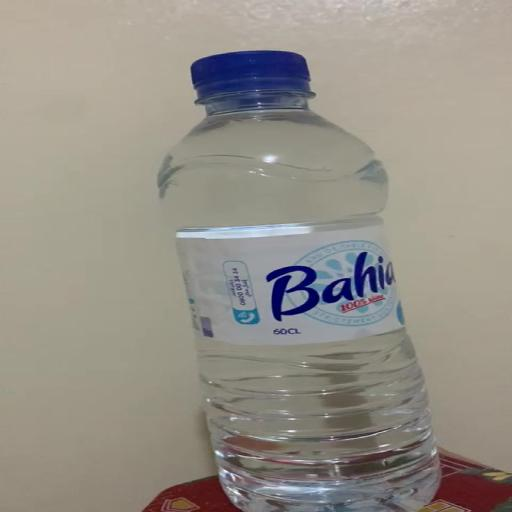bouteille conformite: (156, 46, 462, 512)
